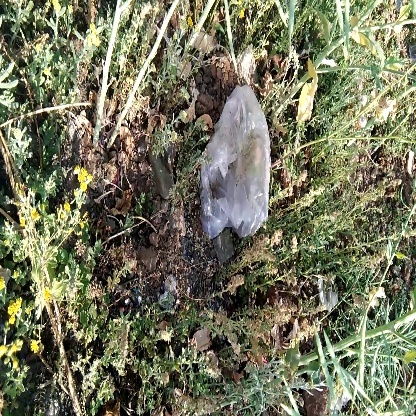plastic-bag: (197, 84, 274, 239)
